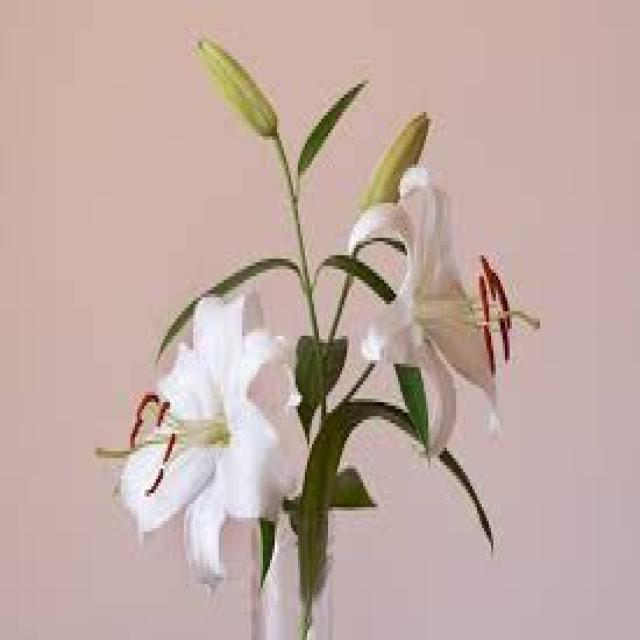lily: (95, 269, 316, 578), (343, 153, 526, 467)
